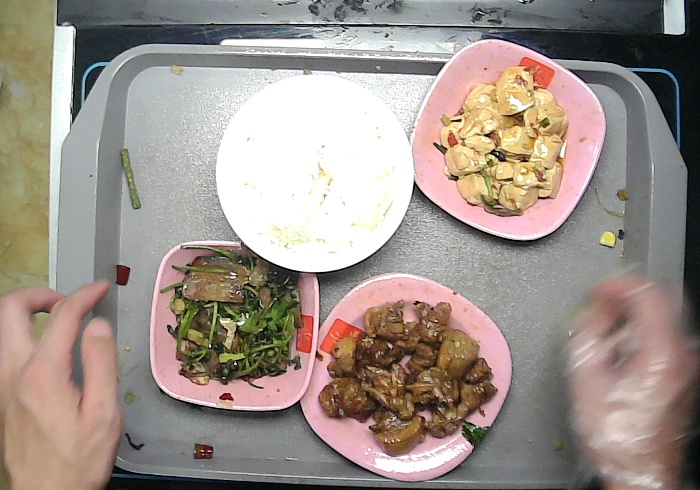SHKJ-Fan_Wan: (213, 72, 418, 273)
SHKJ-Fen_Se_Cai_Die: (407, 38, 609, 240)
SHKJ-Fen_Se_Si_Fang_Cai_Die: (300, 273, 515, 483)
SHKJ-Fen_Se_Xiao_Fang_Die: (147, 239, 321, 415)
